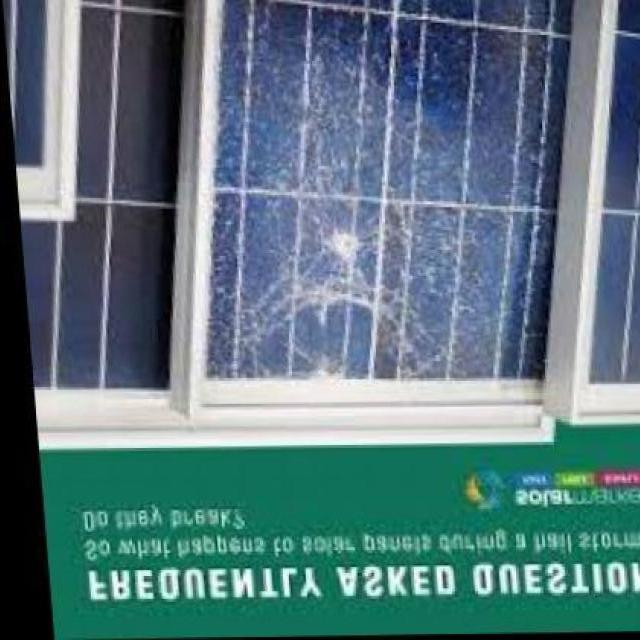cracked: (178, 1, 576, 444)
